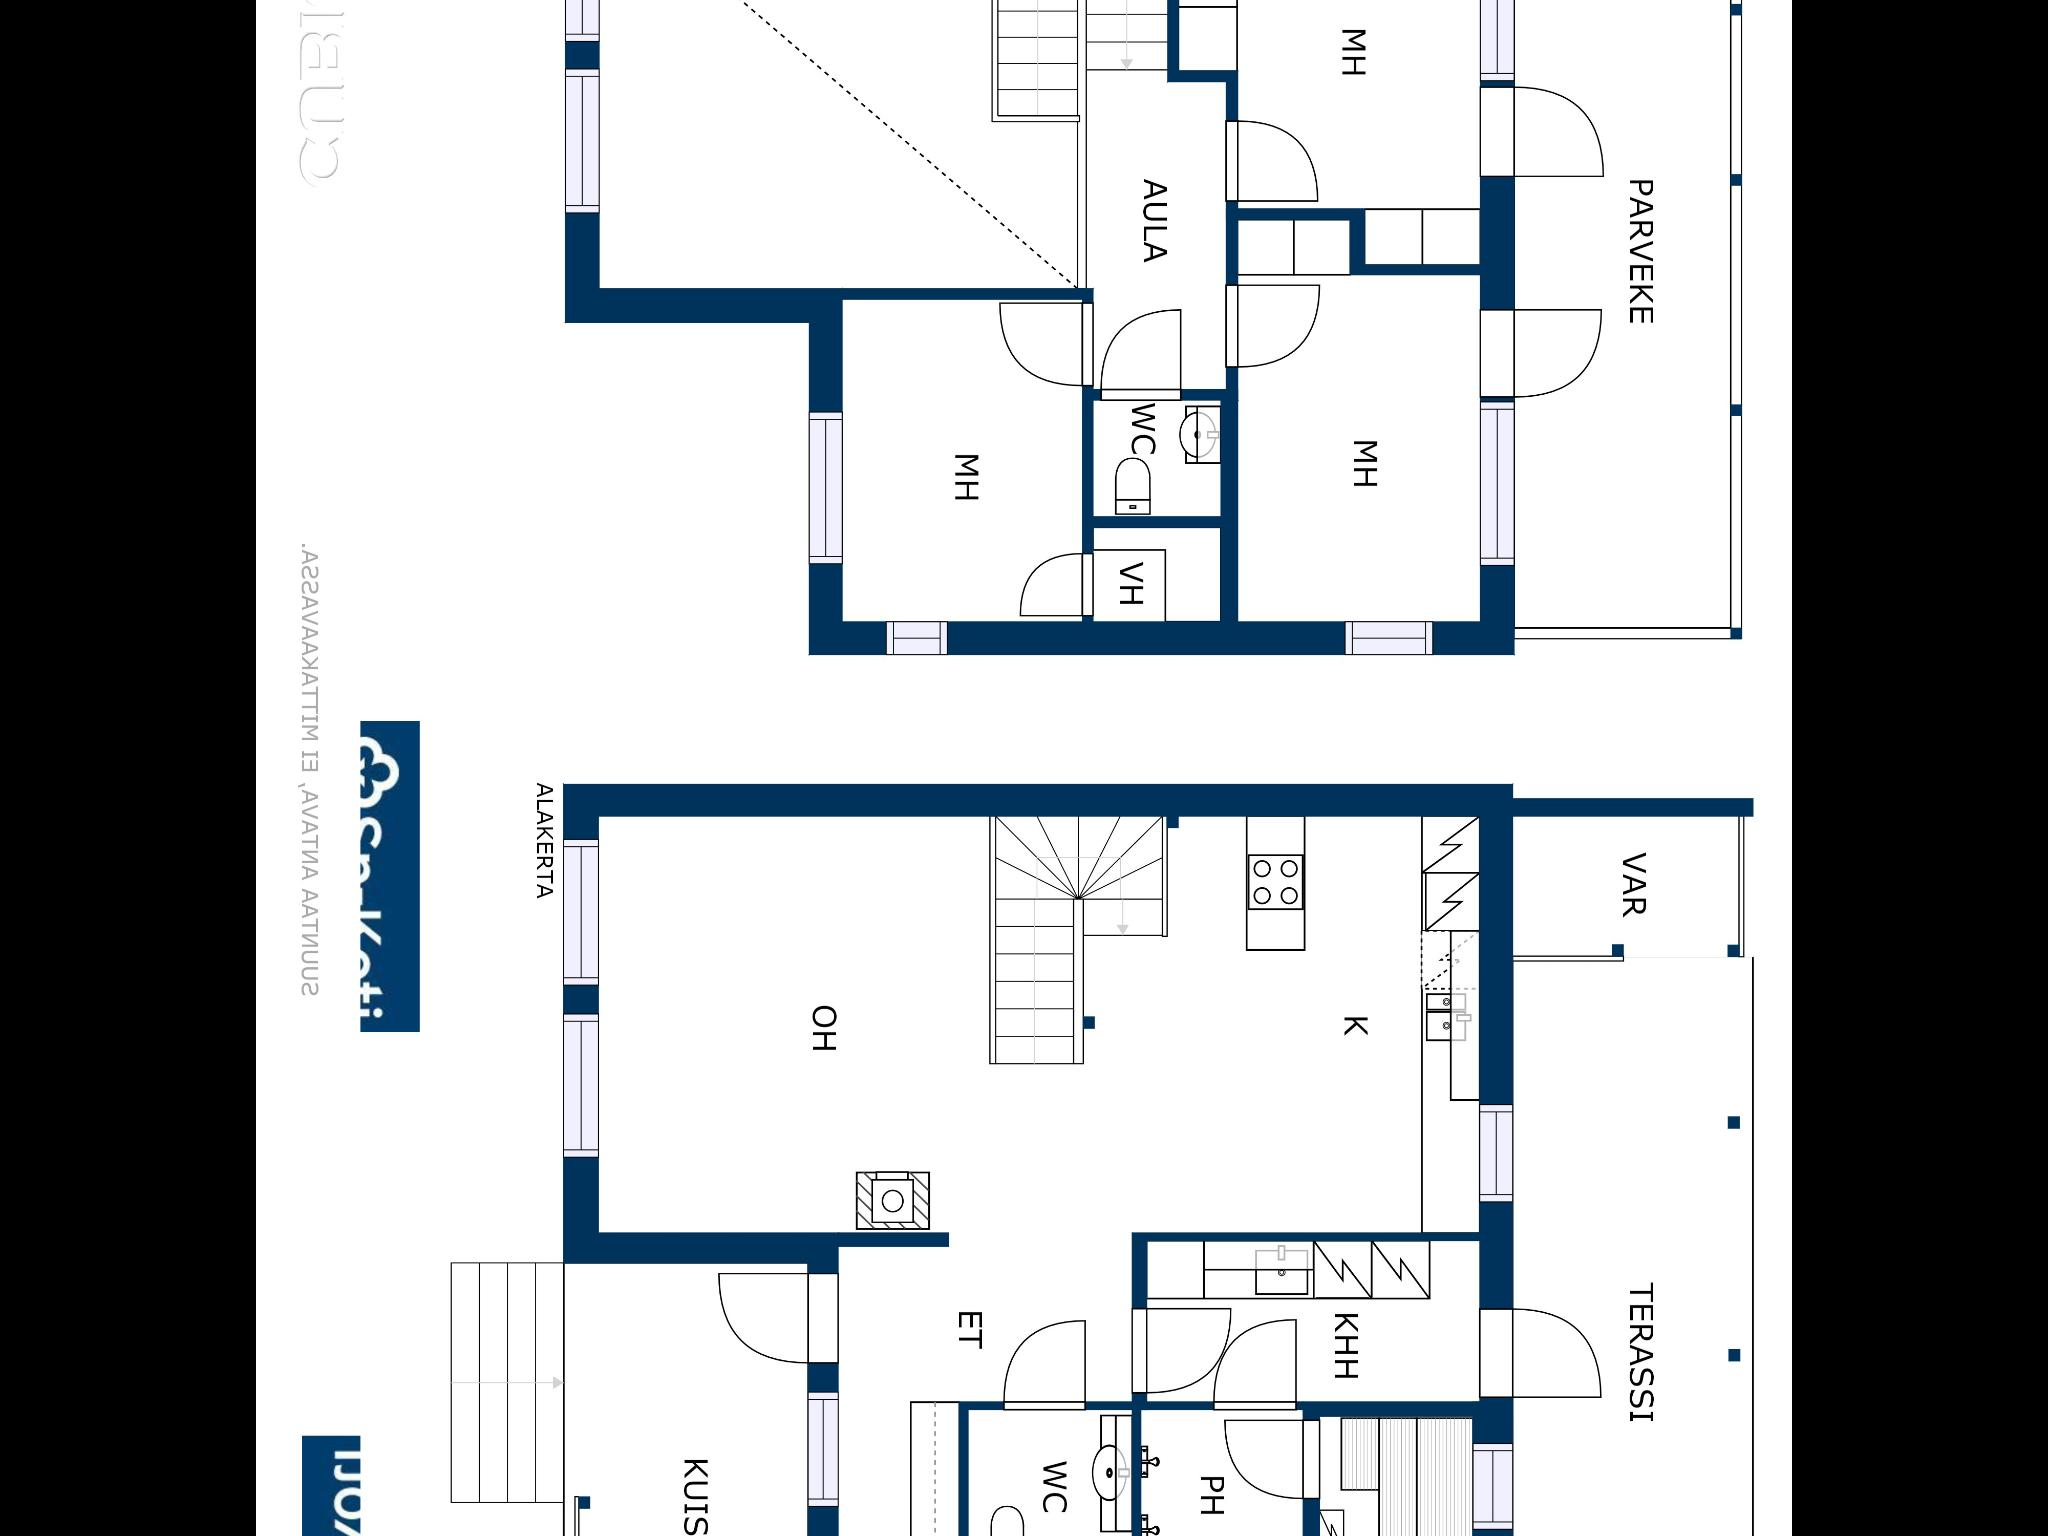door: (1472, 1297, 1609, 1404), (1480, 76, 1608, 184), (1479, 295, 1608, 402), (713, 1268, 845, 1370), (998, 292, 1101, 394), (1222, 115, 1326, 210), (1130, 1300, 1234, 1396), (1000, 1312, 1090, 1417), (1222, 279, 1324, 371), (1218, 1410, 1321, 1501), (1214, 1315, 1300, 1413), (1106, 305, 1185, 407), (1013, 539, 1095, 621)
window: (558, 55, 616, 231), (555, 821, 611, 1002), (1467, 395, 1524, 576), (800, 397, 851, 576), (553, 1005, 608, 1158), (1334, 608, 1453, 663), (1469, 1092, 1522, 1212), (1467, 1433, 1526, 1536), (805, 1384, 845, 1520), (1467, 0, 1524, 86), (874, 615, 956, 668), (561, 0, 616, 53)
